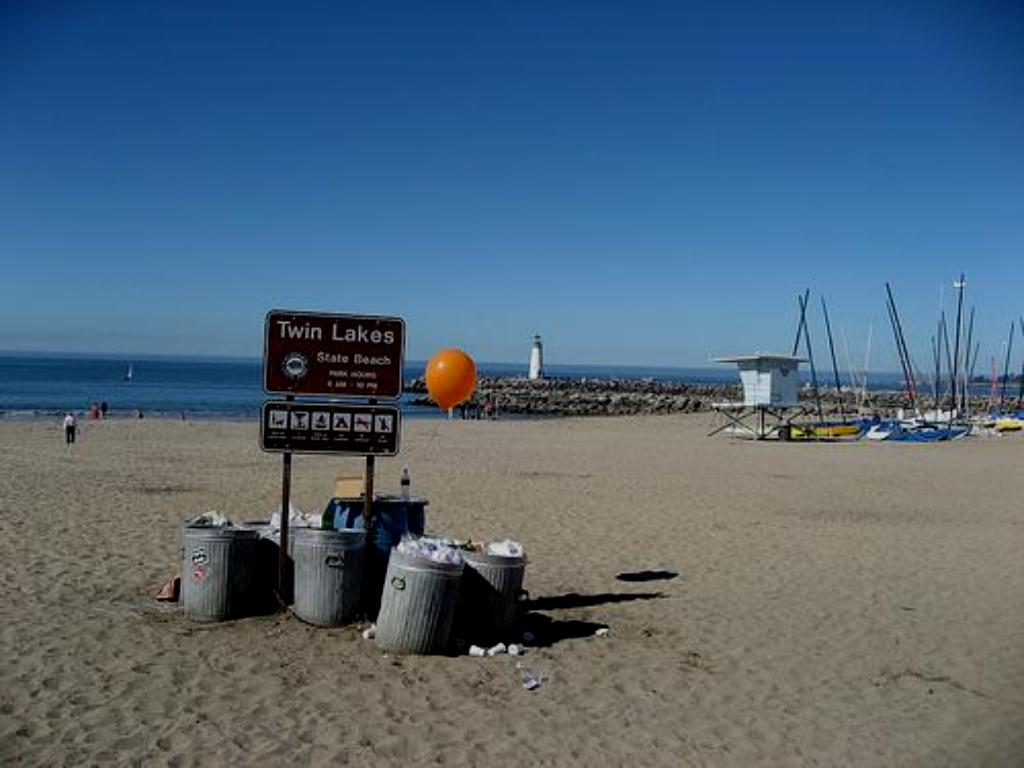dustbin: (183, 519, 265, 635), (290, 518, 372, 627)
